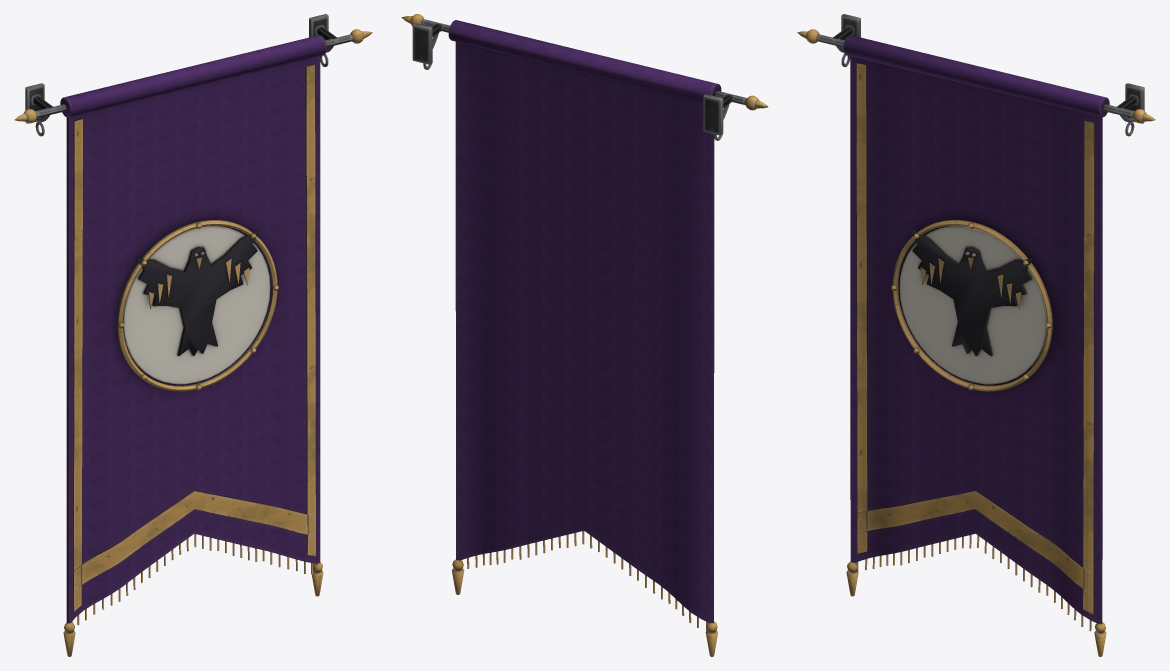
The model's file is BannerRavens.fbx.
The picture shows the model from 3 angles, left to right: view 1: azimuth 30°, elevation 25°; view 2: azimuth 150°, elevation 25°; view 3: azimuth 330°, elevation 25°; orthographic projection. The views are drawn at different scales.
Visible parts, largest first — view 1: BannerRavens_Cloth, BannerRavens_Main; view 2: BannerRavens_Cloth, BannerRavens_Main; view 3: BannerRavens_Cloth, BannerRavens_Main.
Boxes of the visible parts, left/top/right/bottom form: BannerRavens_Cloth: left=60, top=35, right=326, bottom=656; BannerRavens_Main: left=14, top=14, right=372, bottom=136; BannerRavens_Cloth: left=448, top=20, right=721, bottom=656; BannerRavens_Main: left=401, top=14, right=767, bottom=140; BannerRavens_Cloth: left=843, top=35, right=1109, bottom=656; BannerRavens_Main: left=797, top=14, right=1155, bottom=136.
Size of the model in its own units: 399 by 599 by 47.7.
